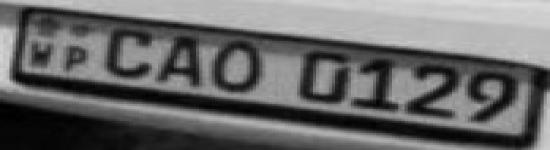0: (296, 48, 352, 106)
1: (353, 55, 402, 113)
2: (404, 62, 466, 122)
9: (465, 69, 523, 127)
A: (156, 34, 208, 88)
C: (103, 25, 157, 81)
O: (206, 38, 272, 95)
P: (58, 44, 92, 77)
W: (27, 38, 58, 71)
